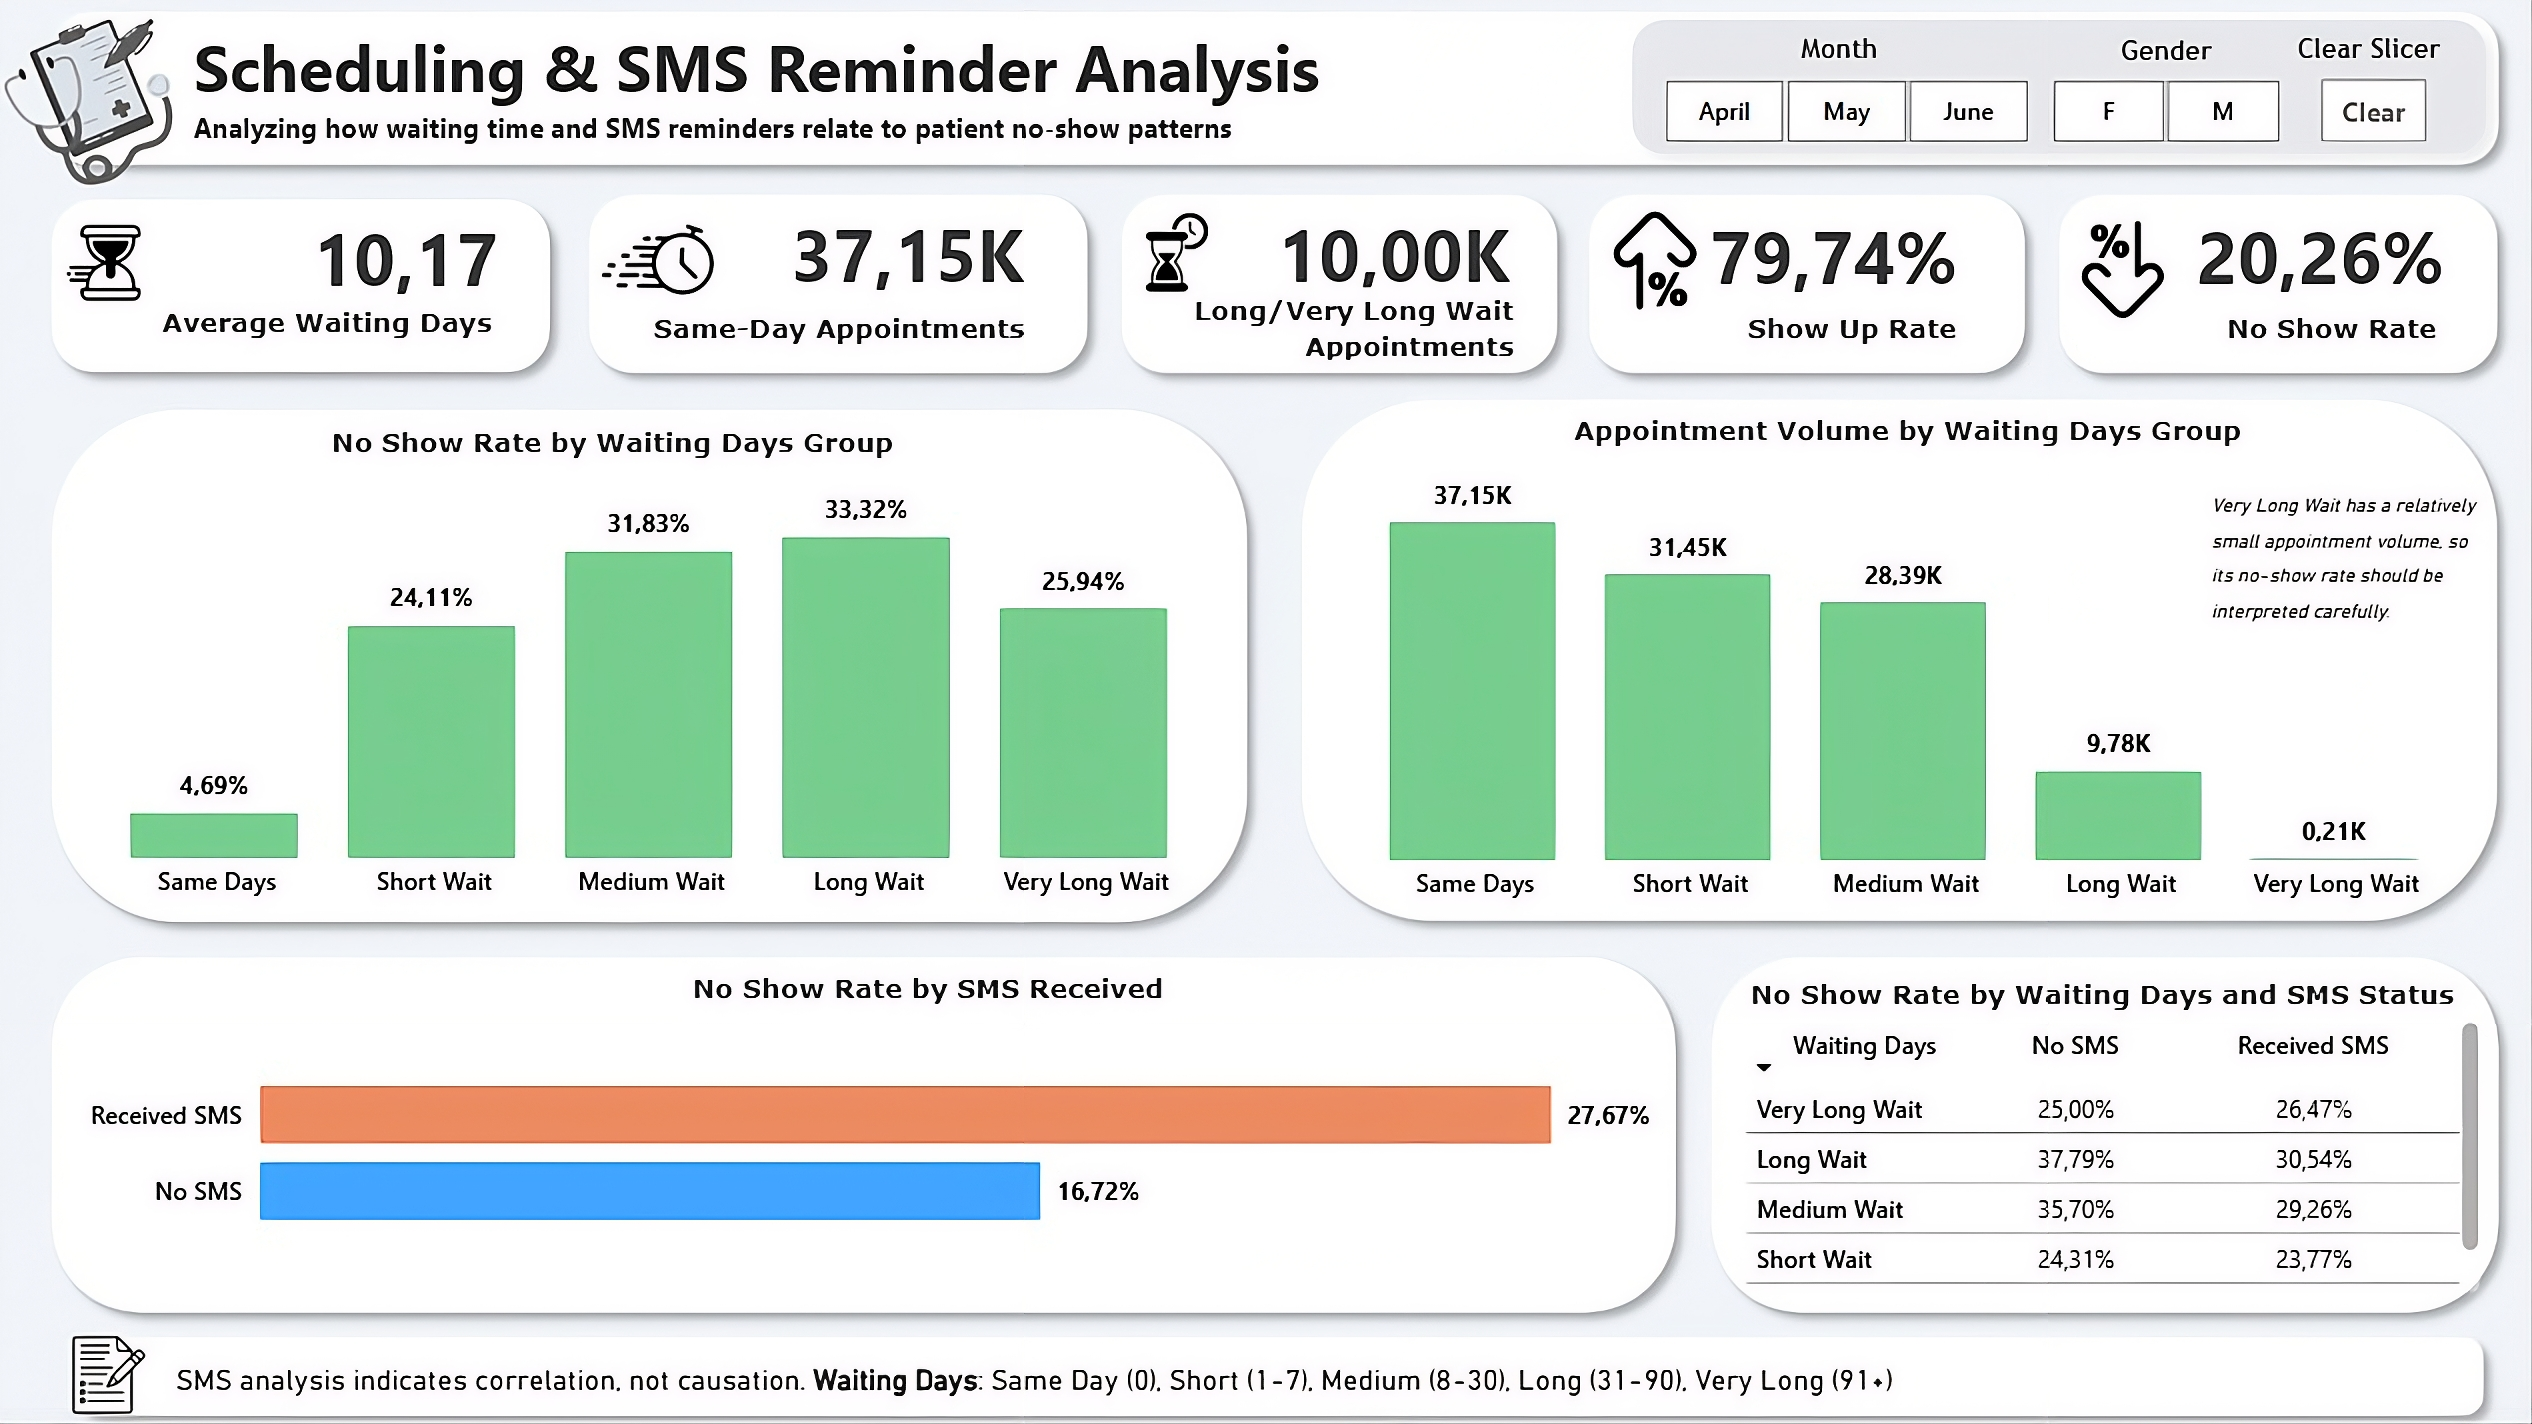

What the dashboard file says about the page in this screenshot:
{"tool":"powerbi","page":{"name":"Scheduling & SMS Reminder Analysis","canvas":[1280,720],"ordinal":1},"visuals":[{"type":"shape","title":"showup shape","box":[787.1,91.4,235.7,107.1],"z":0},{"type":"shape","title":"Shape AVG","box":[18.6,94.3,267.1,104.3],"z":1000},{"type":"shape","title":"long/veylong shpe","box":[554.3,91.4,235.7,107.1],"z":2000},{"type":"shape","title":"no show shpe","box":[1022.9,91.4,237.1,107.1],"z":3000},{"type":"shape","title":"Chart shape","box":[18.6,198.6,615.7,274.3],"z":4000},{"type":"shape","title":"Chart shape22","box":[644.3,194.3,615.7,278.6],"z":5000},{"type":"shape","title":"Line shape sms","box":[18.6,472.9,830,195.7],"z":6000},{"type":"shape","title":"Sameday appoint","box":[287.1,91.4,267.1,107.1],"z":7000},{"type":"shape","title":"Shape Ttitlw","box":[18.6,0,1241.4,94.3],"z":8000},{"type":"shape","title":"TABEL shpe","box":[848.6,472.9,411.4,195.7],"z":9000},{"type":"cardVisual","title":"Total Appointments","fields":{"Data":["Avg(healthcare_appointment healthcare_noshows_clean.WaitingDays)"]},"box":[110,100,158.8,58.8],"z":10000},{"type":"cardVisual","fields":{"Data":["CountNonNull(healthcare_appointment healthcare_noshows_clean.WaitingDays (groups))"]},"box":[338.6,97.1,192.9,61.4],"z":11000},{"type":"cardVisual","fields":{"Data":["CountNonNull(healthcare_appointment healthcare_noshows_clean.WaitingDays (groups))"]},"box":[618.6,104.3,155.7,48.6],"z":12000},{"type":"cardVisual","fields":{"Data":["healthcare_appointment healthcare_noshows_clean.Show-Up Rate"]},"box":[794.3,98.6,204.3,61.4],"z":13000},{"type":"cardVisual","fields":{"Data":["healthcare_appointment healthcare_noshows_clean.No Show Rate"]},"box":[1050,98.6,191.4,61.4],"z":14000},{"type":"columnChart","title":"No Show Rate by Waiting Days Group","fields":{"Y":["healthcare_appointment healthcare_noshows_clean.No-Show Rate"],"Category":["healthcare_appointment healthcare_noshows_clean.WaitingDays (groups)"]},"box":[18.6,234.3,618.6,228.6],"z":15000},{"type":"barChart","title":"No-Show Rate by SMS Received","fields":{"Category":["healthcare_appointment healthcare_noshows_clean.SMS Status"],"Y":["healthcare_appointment healthcare_noshows_clean.No-Show Rate"]},"box":[41.6,498.9,796.1,155.3],"z":16000},{"type":"columnChart","title":"Appointment Volume by Waiting Days Group","fields":{"Y":["CountNonNull(healthcare_appointment healthcare_noshows_clean.AppointmentID)"],"Category":["healthcare_appointment healthcare_noshows_clean.WaitingDays (groups)"]},"box":[648.6,225.7,612.9,237.1],"z":17000},{"type":"textbox","box":[94.3,10,698.6,77.1],"z":18000},{"type":"shape","title":"slicer","box":[808.6,4.3,445.7,85.7],"z":18500},{"type":"pivotTable","fields":{"Rows":["healthcare_appointment healthcare_noshows_clean.WaitingDays (groups)"],"Columns":["healthcare_appointment healthcare_noshows_clean.SMS Status"],"Values":["healthcare_appointment healthcare_noshows_clean.No-Show Rate"]},"box":[869.4,508.7,376.6,145.5],"z":19000},{"type":"shape","box":[31.4,662.9,1221.4,57.1],"z":20000},{"type":"textbox","box":[84.4,678.7,1061.4,34.2],"z":21000},{"type":"textbox","box":[57.1,150,195.7,30],"z":22000},{"type":"textbox","box":[324.3,152.9,195.7,30],"z":23000},{"type":"textbox","box":[581.4,144.3,182.9,54.3],"z":25000},{"type":"textbox","box":[802.9,152.9,182.9,28.6],"z":26000},{"type":"textbox","box":[1042.9,152.9,182.9,28.6],"z":27000},{"type":"textbox","box":[135.7,210,344.3,30],"z":28000},{"type":"textbox","box":[784.3,204.3,344.3,30],"z":29000},{"type":"textbox","box":[295.7,482.9,344.3,30],"z":30000},{"type":"image","box":[0,0,94.3,104.3],"z":31000},{"type":"image","box":[26.2,108.8,55,51.2],"z":32000},{"type":"image","box":[297.5,93.8,63.8,77.5],"z":33000},{"type":"image","box":[561.2,88.8,63.8,77.5],"z":34000},{"type":"image","box":[783.8,103.8,88.8,61.2],"z":35000},{"type":"image","box":[1027.5,103.8,66.2,61.2],"z":36000},{"type":"textbox","box":[1102.7,240,150,98.2],"z":37000},{"type":"textbox","box":[837.1,485.7,431.4,30],"z":38000},{"type":"image","box":[34.3,662.9,47.1,57.1],"z":39000},{"type":"slicer","fields":{"Values":["healthcare_appointment healthcare_noshows_clean.Gender"]},"box":[1002.9,35.7,162.9,44.3],"z":40000},{"type":"textbox","title":"Text Totalapointment","box":[1040.7,13.6,87.9,36.4],"z":41000},{"type":"textbox","title":"Text Totalapointment","box":[878.6,12.9,85.7,38.6],"z":42000},{"type":"slicer","fields":{"Values":["healthcare_appointment healthcare_noshows_clean.appointmentday.Variation.Date Hierarchy.Month"]},"box":[808.7,36.3,231.1,44.3],"z":43000},{"type":"actionButton","box":[1162.9,42.9,52.9,31.4],"z":44000},{"type":"textbox","title":"Text Totalapointment","box":[1142.1,12.9,87.9,36.4],"z":45000}]}

Visuals, with their boxes in screenshot pixels (x1, y1, x2, y2), scaled from the page's 1280x720 canvas onto the 2532x1424 screenshot:
"showup shape" shape: [left=1557, top=181, right=2023, bottom=393]
"Shape AVG" shape: [left=37, top=187, right=565, bottom=393]
"long/veylong shpe" shape: [left=1096, top=181, right=1563, bottom=393]
"no show shpe" shape: [left=2023, top=181, right=2492, bottom=393]
"Chart shape" shape: [left=37, top=393, right=1255, bottom=935]
"Chart shape22" shape: [left=1275, top=384, right=2492, bottom=935]
"Line shape sms" shape: [left=37, top=935, right=1679, bottom=1322]
"Sameday appoint" shape: [left=568, top=181, right=1096, bottom=393]
"Shape Ttitlw" shape: [left=37, top=0, right=2492, bottom=187]
"TABEL shpe" shape: [left=1679, top=935, right=2492, bottom=1322]
"Total Appointments" cardVisual: [left=218, top=198, right=532, bottom=314]
cardVisual - CountNonNull(healthcare_appointment healthcare_noshows_clean.WaitingDays (groups)): [left=670, top=192, right=1051, bottom=313]
cardVisual - CountNonNull(healthcare_appointment healthcare_noshows_clean.WaitingDays (groups)): [left=1224, top=206, right=1532, bottom=302]
cardVisual - healthcare_appointment healthcare_noshows_clean.Show-Up Rate: [left=1571, top=195, right=1975, bottom=316]
cardVisual - healthcare_appointment healthcare_noshows_clean.No Show Rate: [left=2077, top=195, right=2456, bottom=316]
"No Show Rate by Waiting Days Group" columnChart: [left=37, top=463, right=1260, bottom=916]
"No-Show Rate by SMS Received" barChart: [left=82, top=987, right=1657, bottom=1294]
"Appointment Volume by Waiting Days Group" columnChart: [left=1283, top=446, right=2495, bottom=915]
textbox: [left=187, top=20, right=1568, bottom=172]
"slicer" shape: [left=1600, top=9, right=2481, bottom=178]
pivotTable - healthcare_appointment healthcare_noshows_clean.WaitingDays (groups) x healthcare_appointment healthcare_noshows_clean.SMS Status: [left=1720, top=1006, right=2465, bottom=1294]
shape: [left=62, top=1311, right=2478, bottom=1423]
textbox: [left=167, top=1342, right=2267, bottom=1410]
textbox: [left=113, top=297, right=500, bottom=356]
textbox: [left=642, top=302, right=1029, bottom=362]
textbox: [left=1150, top=285, right=1512, bottom=393]
textbox: [left=1588, top=302, right=1950, bottom=359]
textbox: [left=2063, top=302, right=2425, bottom=359]
textbox: [left=268, top=415, right=950, bottom=475]
textbox: [left=1551, top=404, right=2233, bottom=463]
textbox: [left=585, top=955, right=1266, bottom=1014]
image: [left=0, top=0, right=187, bottom=206]
image: [left=52, top=215, right=161, bottom=316]
image: [left=588, top=186, right=715, bottom=339]
image: [left=1110, top=176, right=1236, bottom=329]
image: [left=1550, top=205, right=1726, bottom=326]
image: [left=2033, top=205, right=2163, bottom=326]
textbox: [left=2181, top=475, right=2478, bottom=669]
textbox: [left=1656, top=961, right=2509, bottom=1020]
image: [left=68, top=1311, right=161, bottom=1423]
slicer - healthcare_appointment healthcare_noshows_clean.Gender: [left=1984, top=71, right=2306, bottom=158]
"Text Totalapointment" textbox: [left=2059, top=27, right=2233, bottom=99]
"Text Totalapointment" textbox: [left=1738, top=26, right=1908, bottom=102]
slicer - healthcare_appointment healthcare_noshows_clean.appointmentday.Variation.Date Hierarchy.Month: [left=1600, top=72, right=2057, bottom=159]
actionButton: [left=2300, top=85, right=2405, bottom=147]
"Text Totalapointment" textbox: [left=2259, top=26, right=2433, bottom=98]
